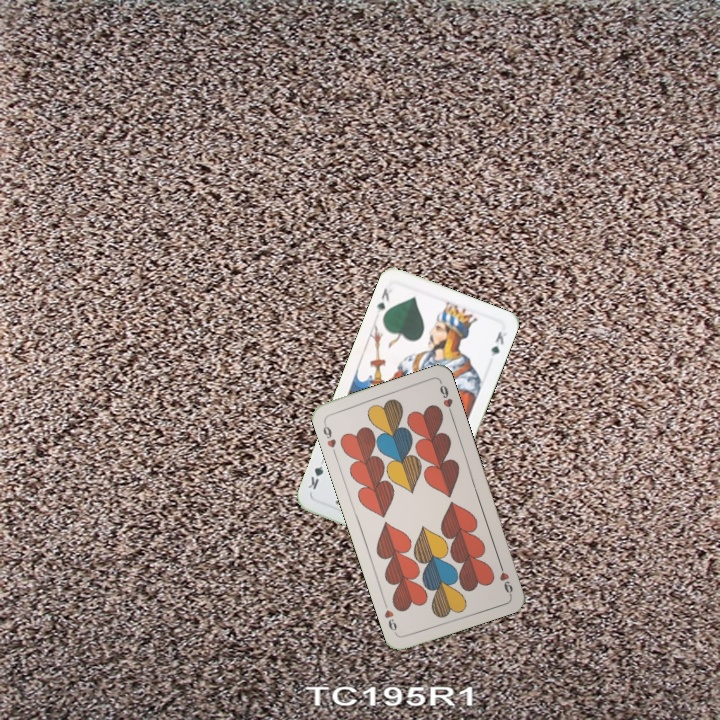GK: (372, 284, 395, 316)
H9: (319, 418, 339, 457), (495, 558, 515, 597)
